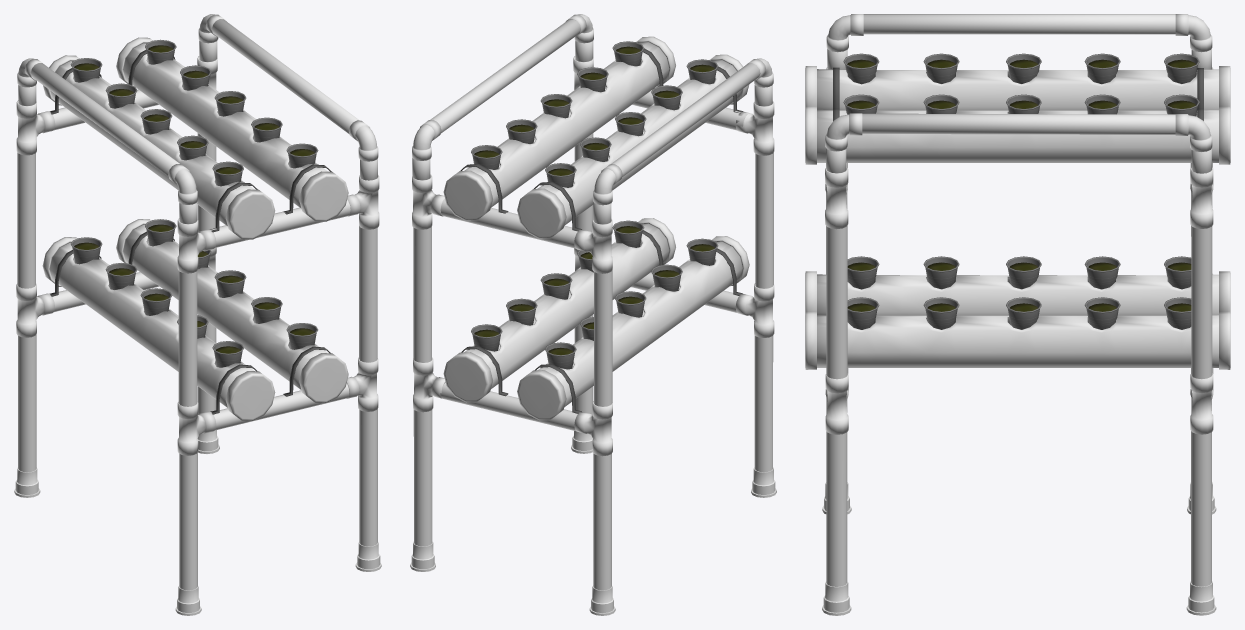
Rendered from model_HydroSystem.fbx.
3 views of the same model, side by side, from view 1: azimuth 30°, elevation 25°; view 2: azimuth 150°, elevation 25°; view 3: azimuth 270°, elevation 25° (orthographic). The views are drawn at different scales.
Parts seen in each view (by area): view 1: 4" PVC pipe (3FT), 4" PVC pipe (3FT).003, 4" PVC pipe (3FT).002, 4" PVC pipe (3FT).001, 32mm SOCKET.001, 32mm SOCKET, 32mm SOCKET.003, 32"PVCPipe_Large.001, 32"PVCPipe_Large, 32"PVCPipe_Med.003, 32"PVCPipe_Med.001, 32"PVCPipe_Med.005 (+36 smaller); view 2: 4" PVC pipe (3FT), 4" PVC pipe (3FT).003, 4" PVC pipe (3FT).002, 4" PVC pipe (3FT).001, 32mm SOCKET.002, 32mm SOCKET.003, 32mm SOCKET.001, 32"PVCPipe_Large, 32"PVCPipe_Large.001, 32"PVCPipe_Med.002, 32"PVCPipe_Med.003, 32"PVCPipe_Med.001 (+34 smaller); view 3: 4" PVC pipe (3FT).002, 4" PVC pipe (3FT), 4" PVC pipe (3FT).001, 4" PVC pipe (3FT).003, 32"PVCPipe_Large.001, 32"PVCPipe_Large, 32mm SOCKET, 32mm SOCKET.002, 32"PVCPipe_Med.002, 32"PVCPipe_Med.005, 32MM PVC TEE.005, 32MM PVC TEE.002 (+25 smaller).
Boxes of the visible parts, x1,y1,x2,y2 form: 4" PVC pipe (3FT): (123,43,327,208); 4" PVC pipe (3FT).003: (49,242,253,407); 4" PVC pipe (3FT).002: (123,224,327,389); 4" PVC pipe (3FT).001: (50,61,254,226); 32mm SOCKET.001: (14,334,40,497); 32mm SOCKET: (355,409,381,571); 32mm SOCKET.003: (175,452,201,615); 32"PVCPipe_Large.001: (31,63,179,176); 32"PVCPipe_Large: (212,19,359,134); 32"PVCPipe_Med.003: (178,271,197,406); 32"PVCPipe_Med.001: (17,152,35,288); 32"PVCPipe_Med.005: (359,226,377,362); 4" PVC pipe (3FT): (464,42,669,207); 4" PVC pipe (3FT).003: (538,241,742,406); 4" PVC pipe (3FT).002: (464,223,669,388); 4" PVC pipe (3FT).001: (538,60,741,225); 32mm SOCKET.002: (410,409,435,571); 32mm SOCKET.003: (751,335,776,497); 32mm SOCKET.001: (589,453,615,615); 32"PVCPipe_Large: (430,19,580,133); 32"PVCPipe_Large.001: (611,63,759,176); 32"PVCPipe_Med.002: (413,226,431,362); 32"PVCPipe_Med.003: (755,152,773,288); 32"PVCPipe_Med.001: (594,270,612,406); 4" PVC pipe (3FT).002: (817,315,1218,367); 4" PVC pipe (3FT): (817,109,1218,162); 4" PVC pipe (3FT).001: (817,69,1218,110); 4" PVC pipe (3FT).003: (817,274,1218,315); 32"PVCPipe_Large.001: (863,14,1175,34); 32"PVCPipe_Large: (862,113,1175,134); 32mm SOCKET: (822,431,851,615); 32mm SOCKET.002: (1186,431,1216,615); 32"PVCPipe_Med.002: (1191,226,1212,379); 32"PVCPipe_Med.005: (826,225,847,379); 32MM PVC TEE.005: (825,373,848,434); 32MM PVC TEE.002: (1190,373,1213,434).
Bounding box in the file's own units: 116 × 239 × 186.
3 materials, 1 textured.
